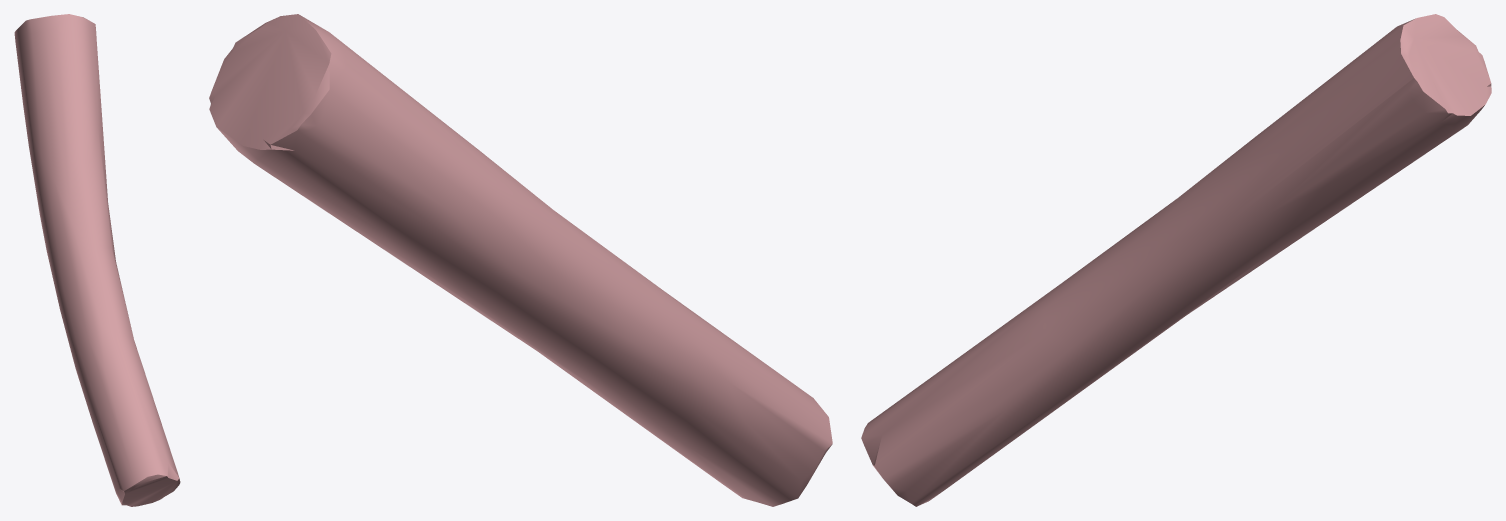
The model's file is fma68321_fj2494.glb.
3 renders of one model, left to right at view 1: azimuth 30°, elevation 25°; view 2: azimuth 150°, elevation 25°; view 3: azimuth 270°, elevation 25°, orthographic. The views are drawn at different scales.
Parts seen in each view (by area): view 1: FMA68321_FJ2494; view 2: FMA68321_FJ2494; view 3: FMA68321_FJ2494.
Part boxes in pixels (x1,y1,x2,y2): FMA68321_FJ2494: [14, 14, 180, 506]; FMA68321_FJ2494: [209, 14, 832, 506]; FMA68321_FJ2494: [861, 14, 1491, 506].
Bounding box in the file's own units: 0.0052 × 0.0119 × 0.0126.
